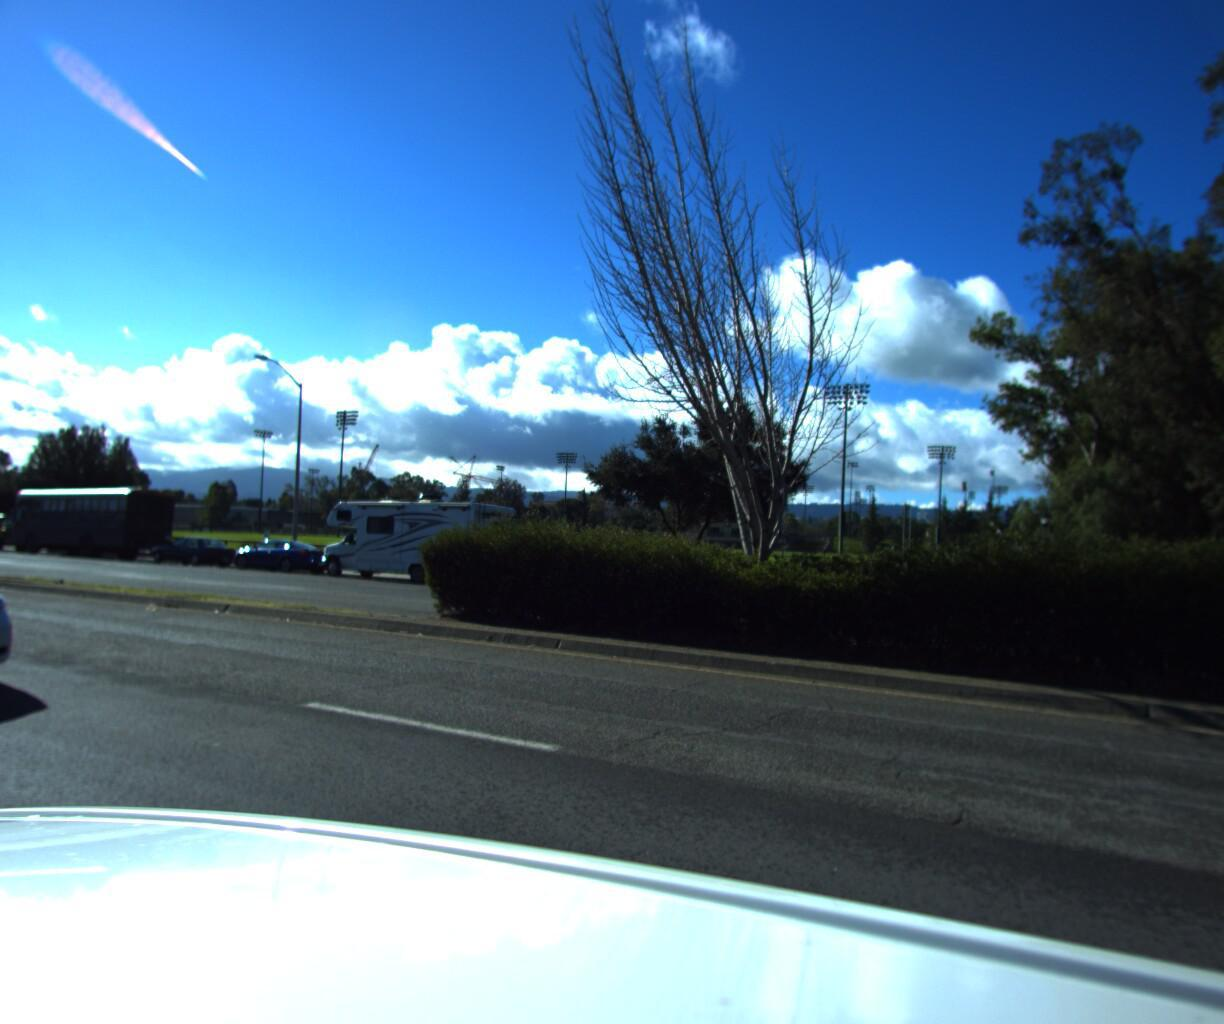bus: (1, 477, 179, 559)
car: (0, 499, 52, 754), (219, 530, 338, 573), (137, 527, 243, 564), (0, 507, 35, 550)
other_vehicle: (305, 485, 524, 587)
